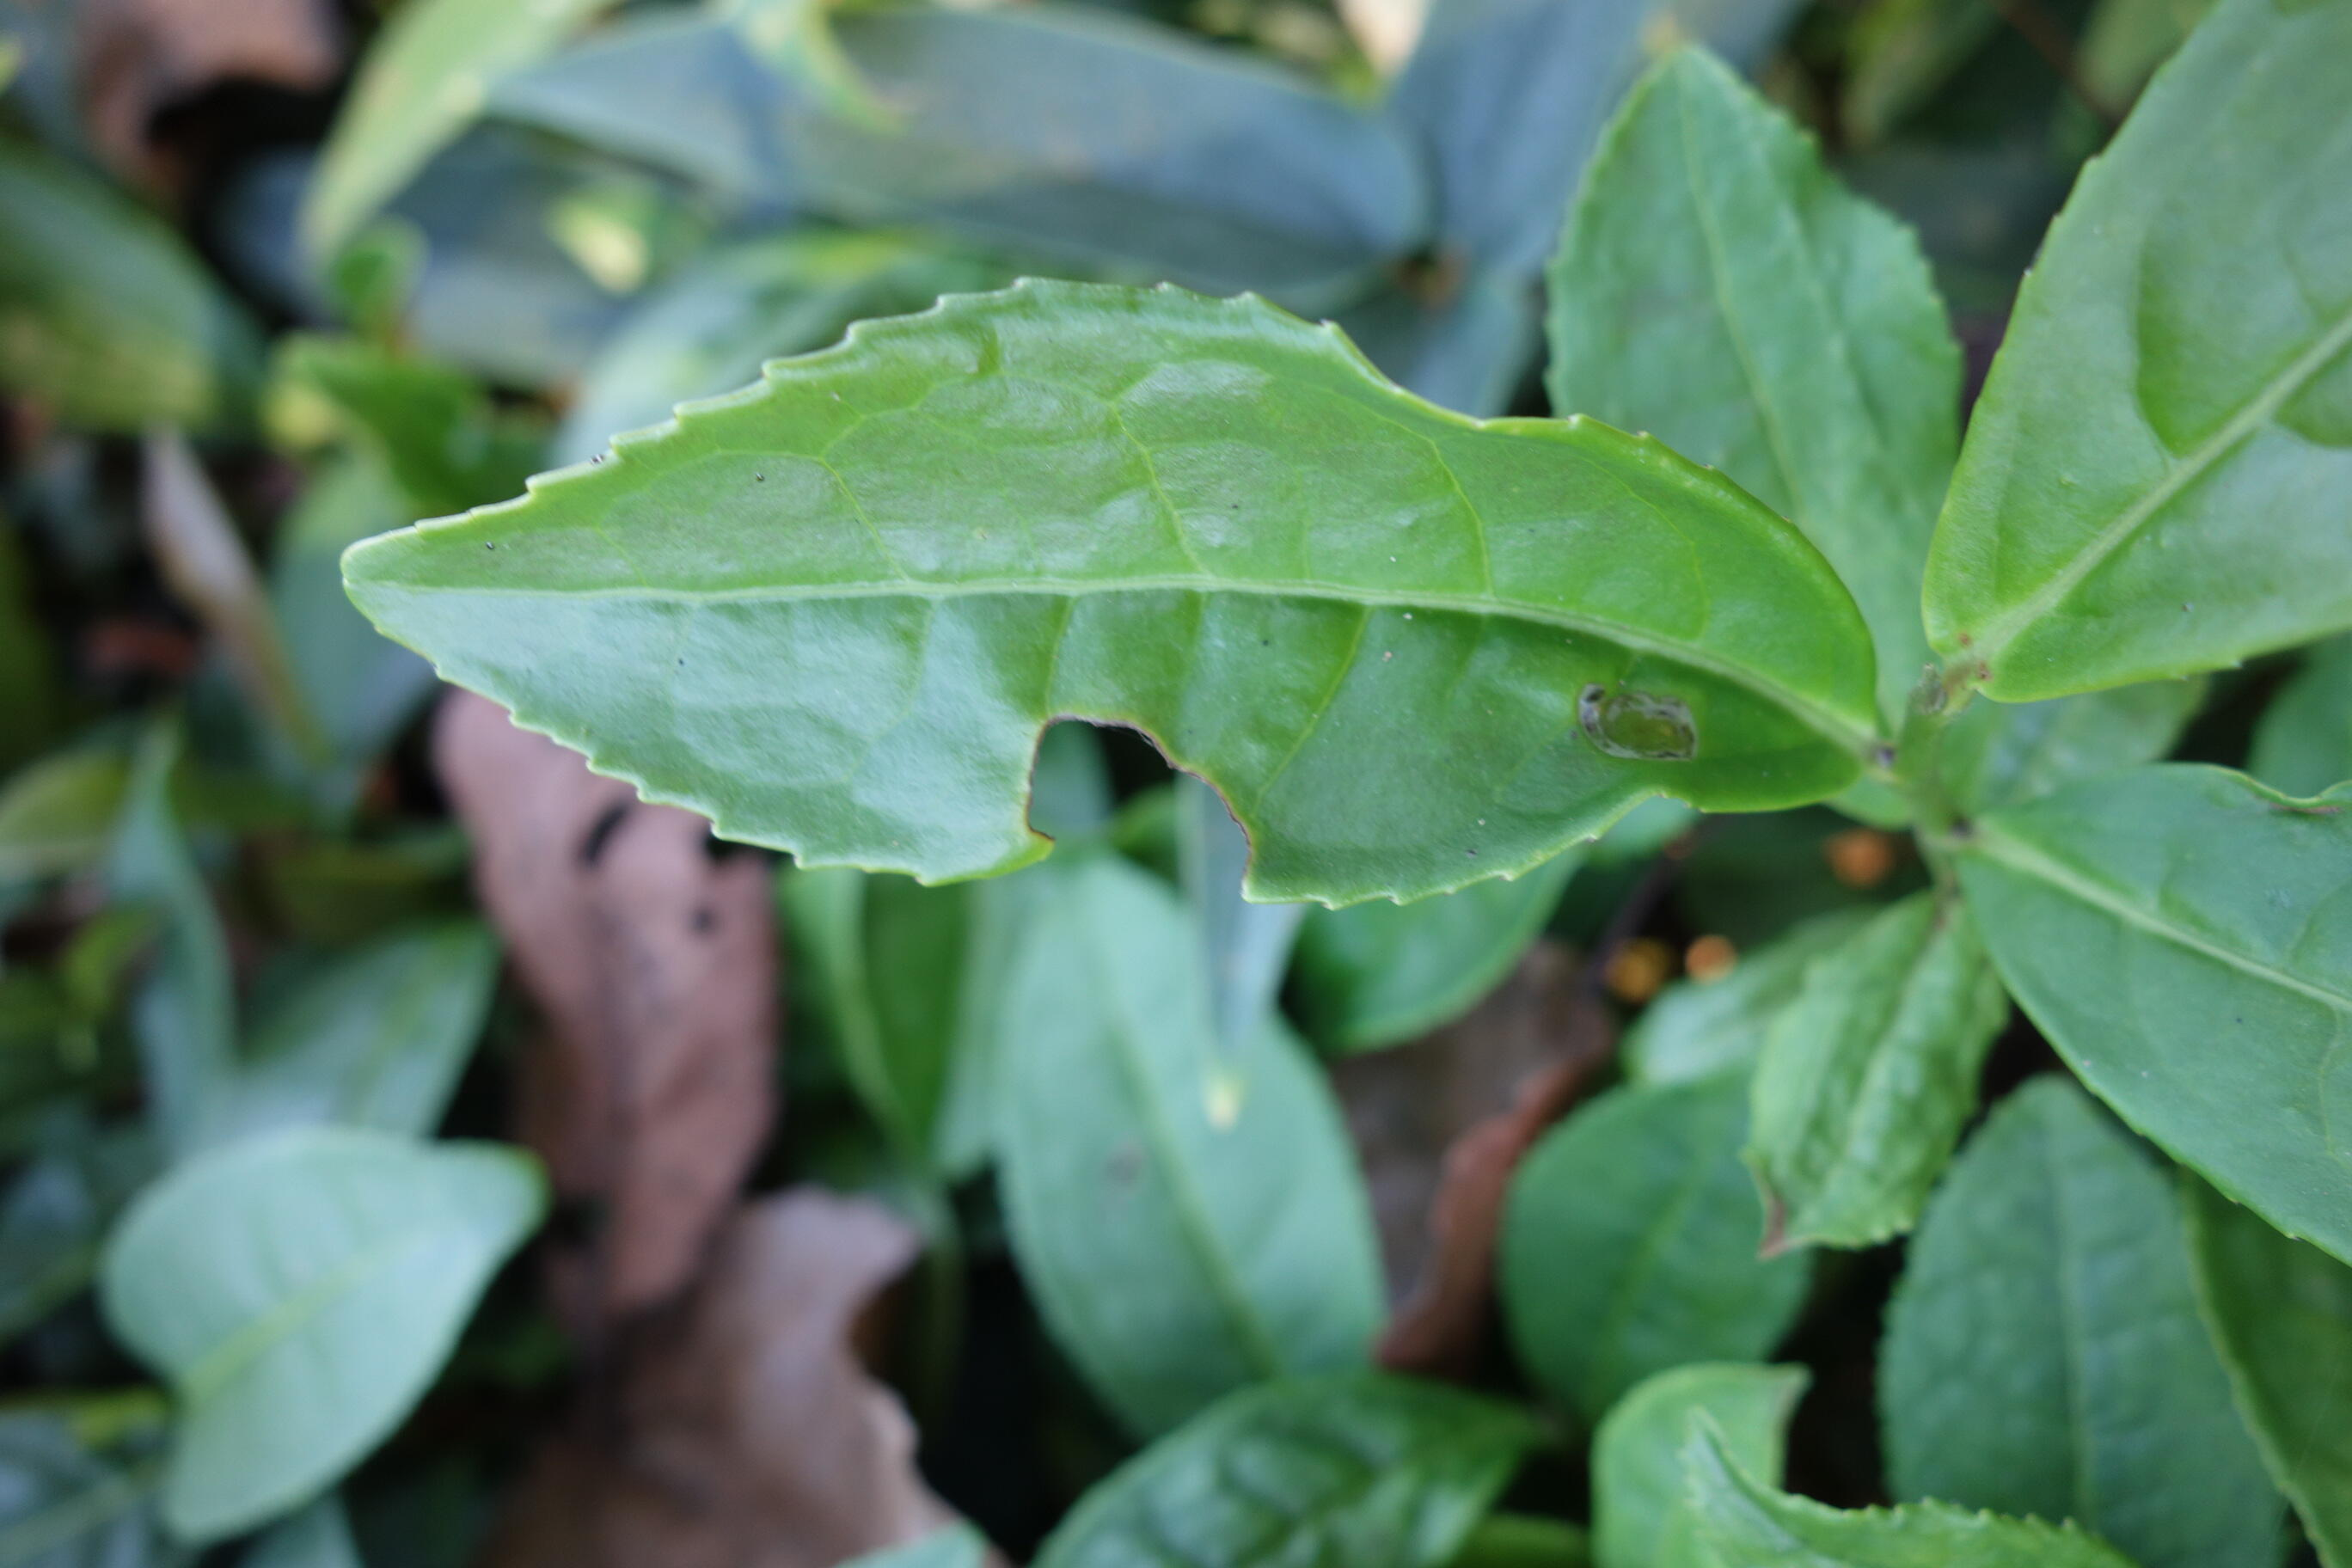chihuo_low: (336, 273, 1886, 938)
healthy: (1920, 2, 2350, 709)
